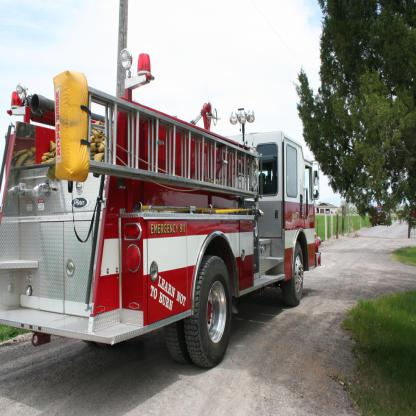Car: (369, 205, 389, 226), (410, 208, 416, 224)
Truck: (0, 48, 324, 368)
